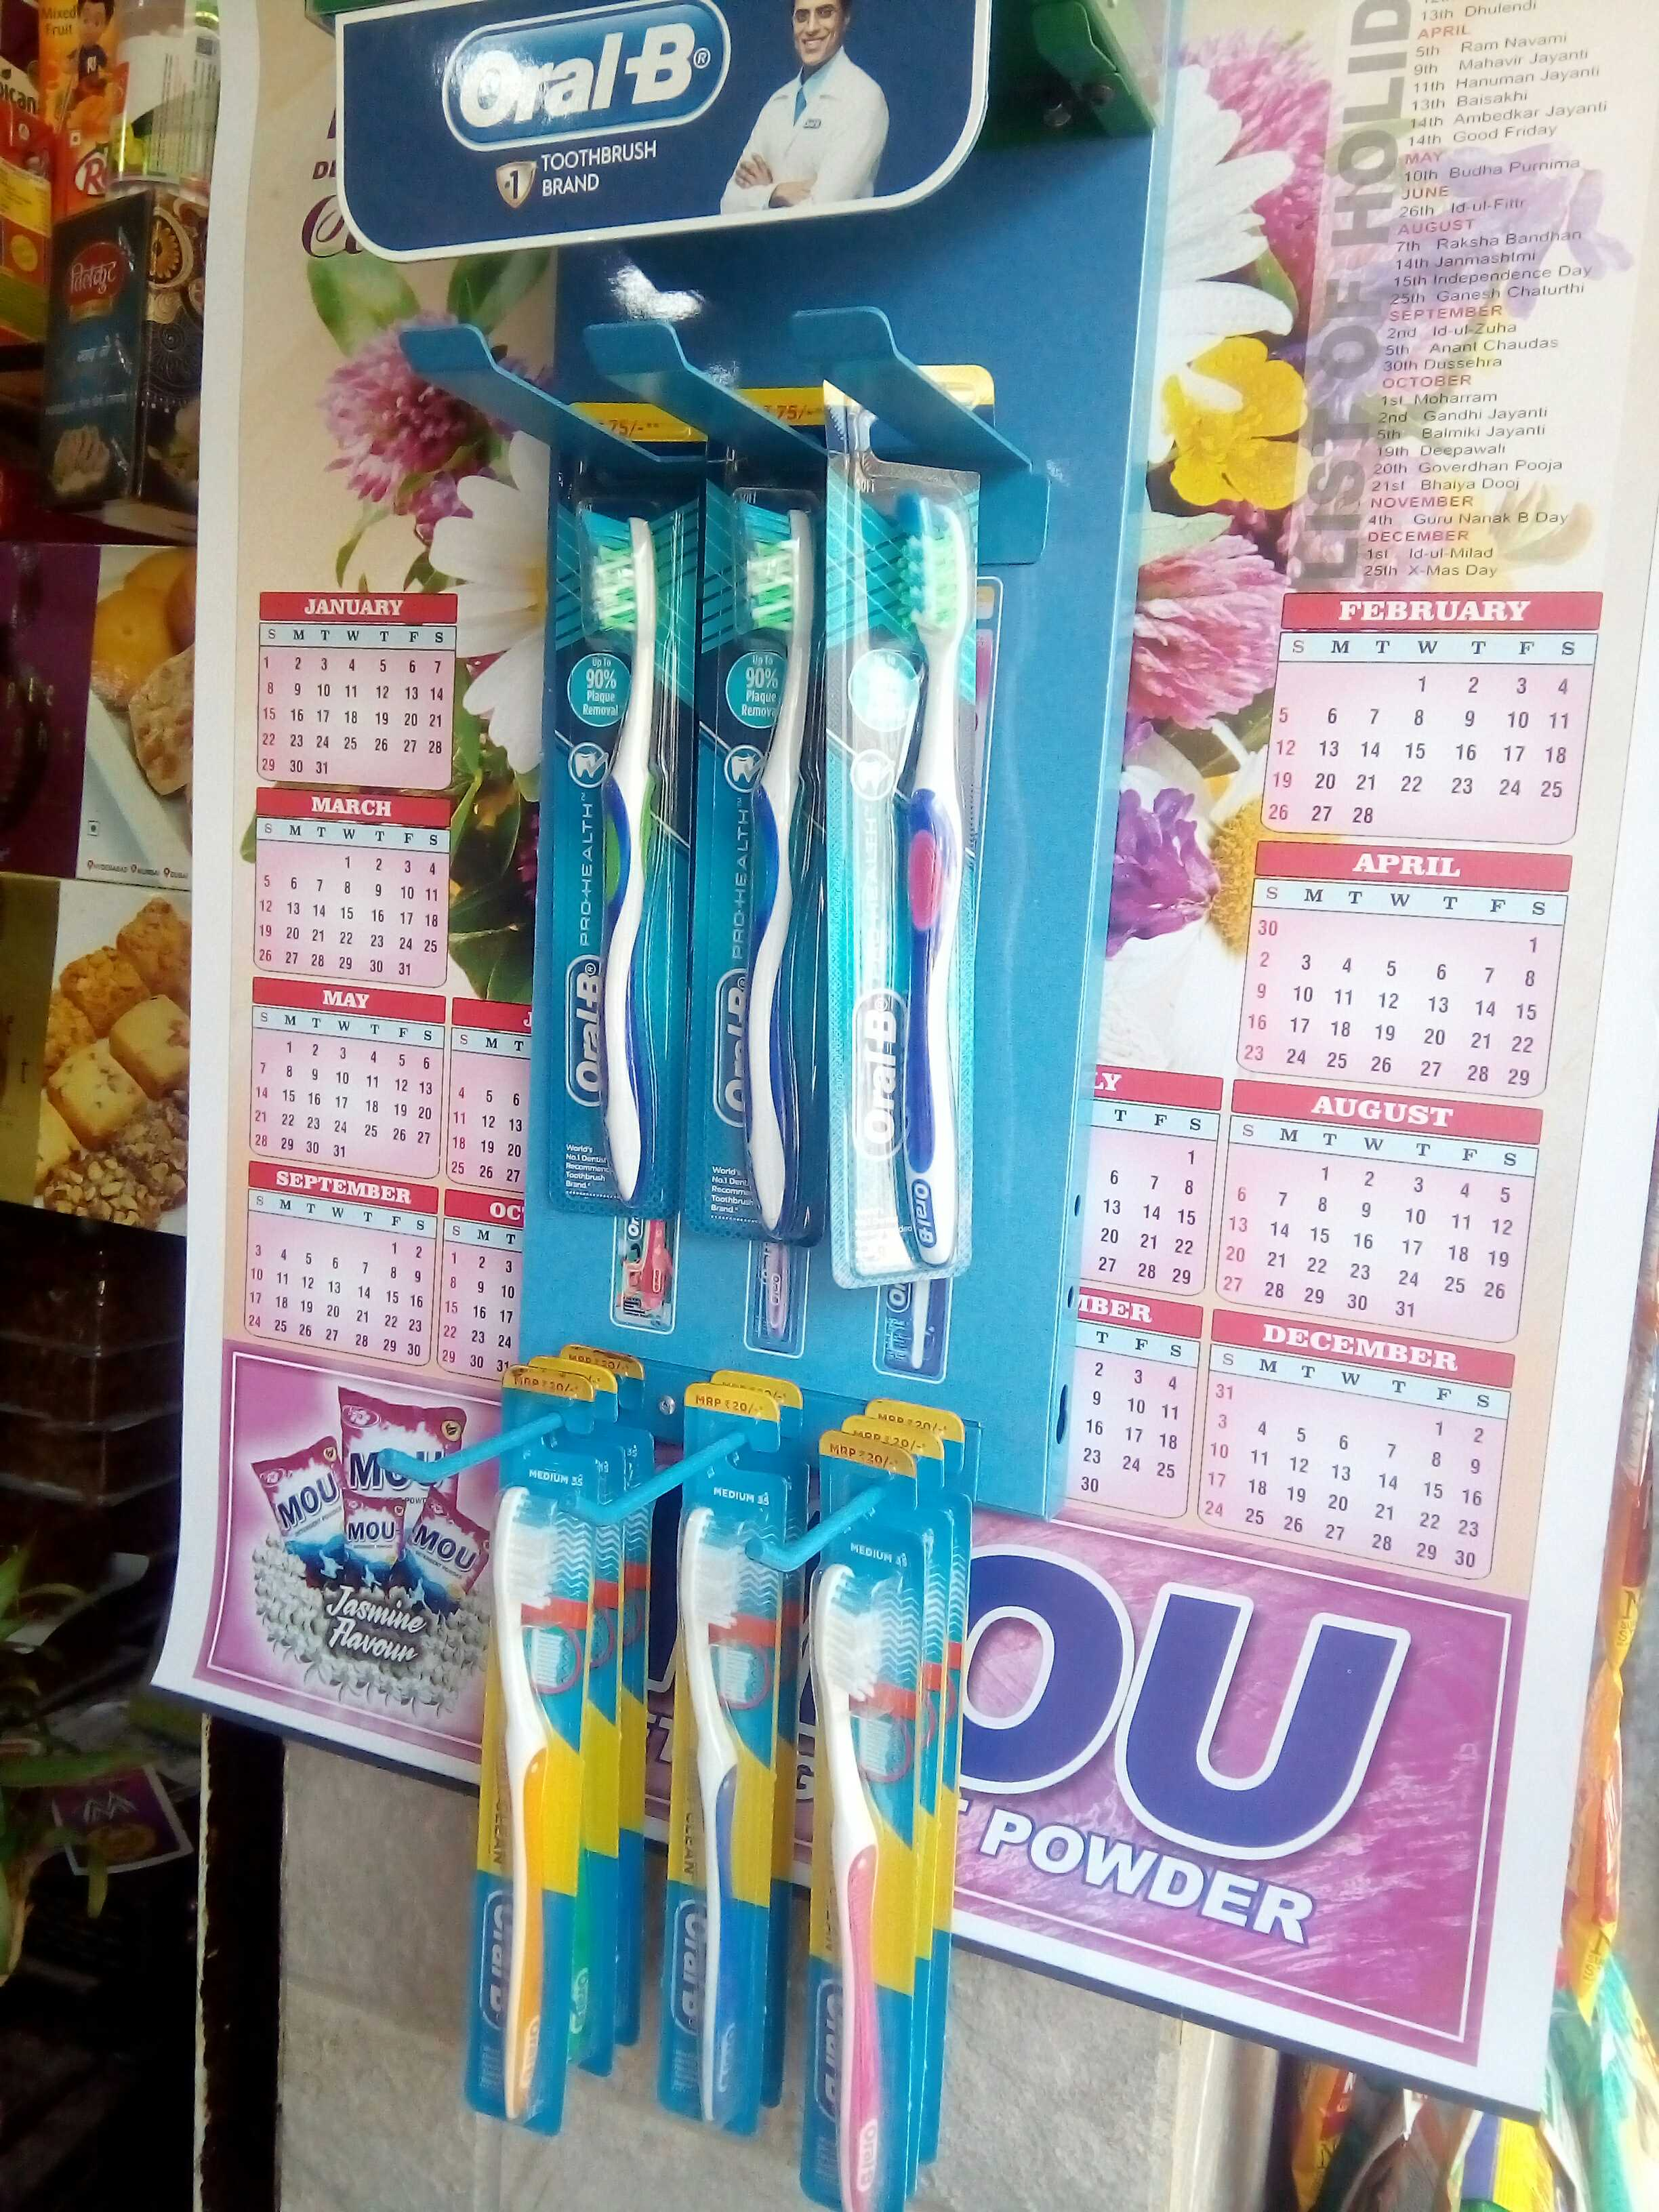oralb: (833, 392, 993, 1273), (530, 381, 687, 1249), (807, 1423, 938, 2212), (697, 425, 826, 1223), (462, 1413, 589, 2137), (662, 1381, 762, 2130)
